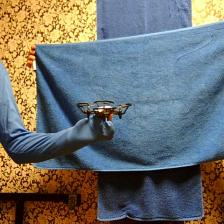drone: (76, 98, 133, 123)
